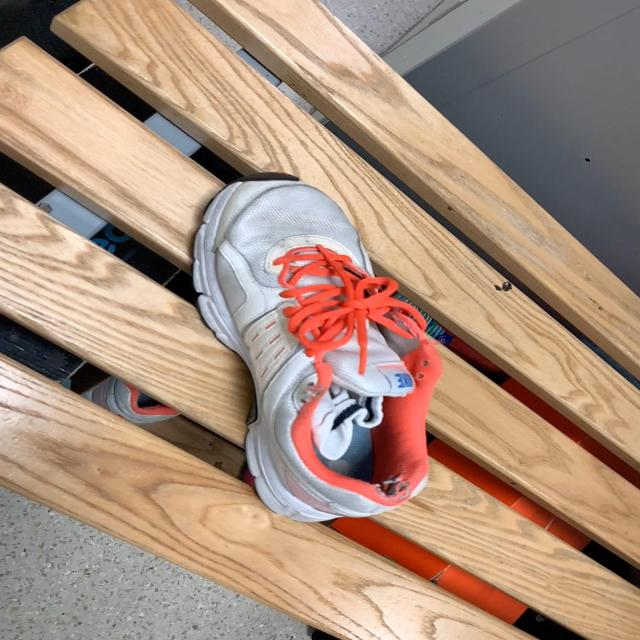shoe: (191, 178, 444, 526)
